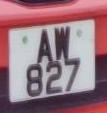2: (44, 60, 65, 97)
7: (64, 58, 84, 94)
8: (23, 60, 46, 101)
A: (34, 26, 54, 65)
W: (52, 24, 71, 61)
